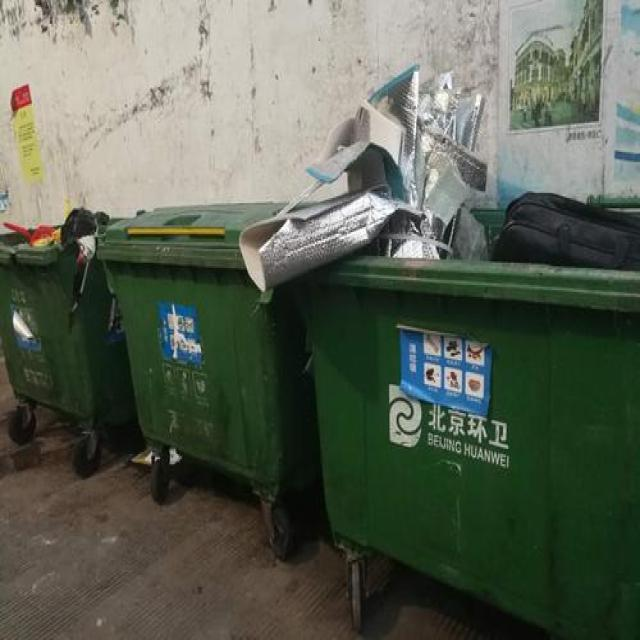garbage_bin: (96, 202, 316, 482)
overflow: (237, 63, 639, 638), (0, 205, 136, 423)
